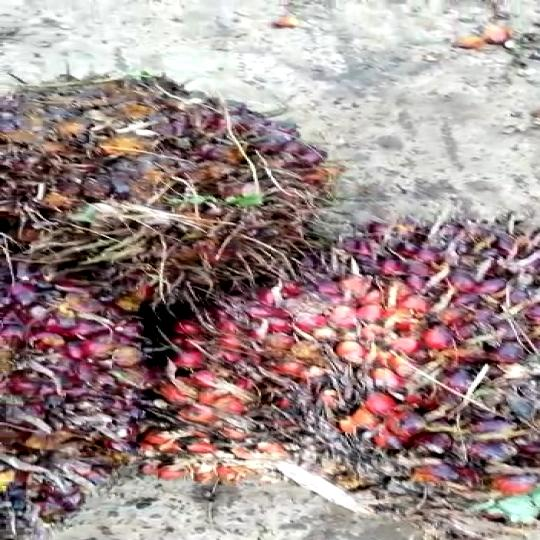masak: (200, 196, 540, 522), (0, 80, 343, 302)
